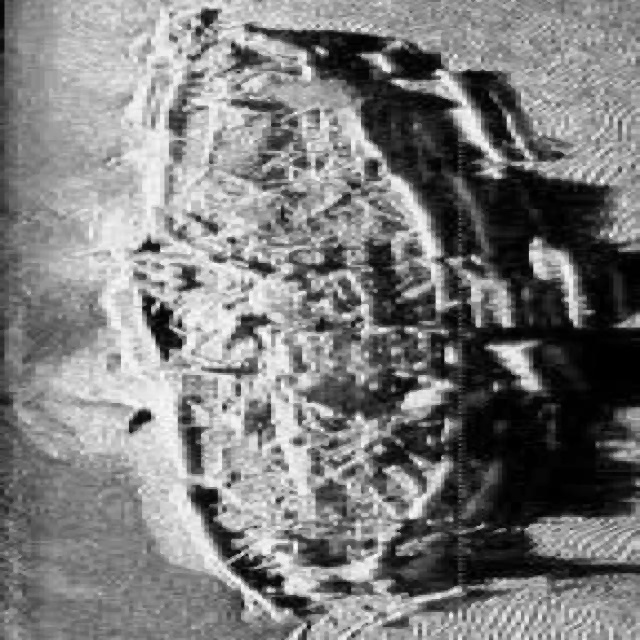Ship: (77, 8, 607, 640)
